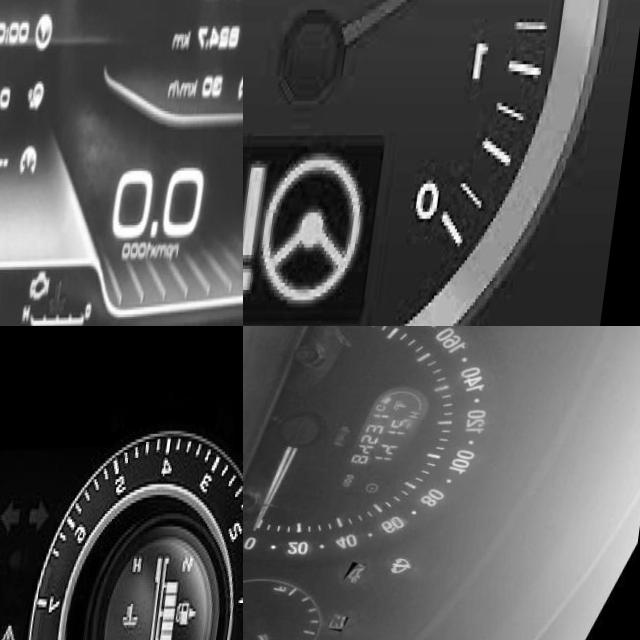Electronic Power Steering: (244, 153, 391, 309)
High Engine Coolant Temperature: (62, 273, 86, 321)
